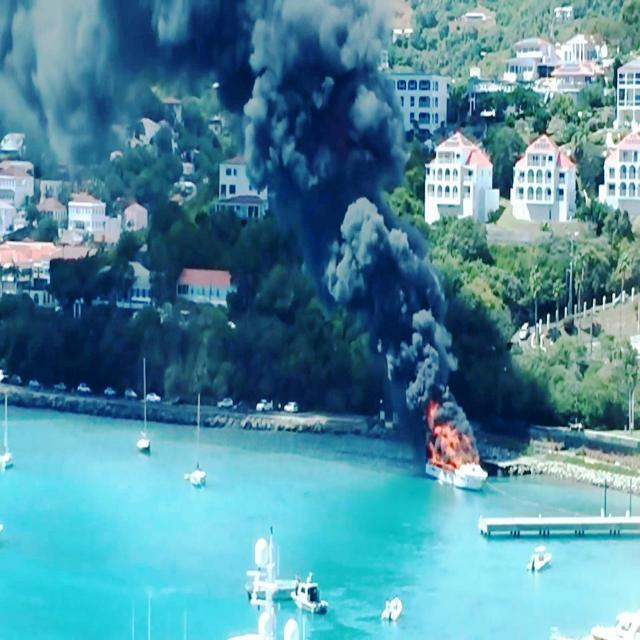Smoke: (241, 0, 412, 191), (0, 0, 126, 132), (325, 197, 436, 338), (386, 306, 449, 406)
